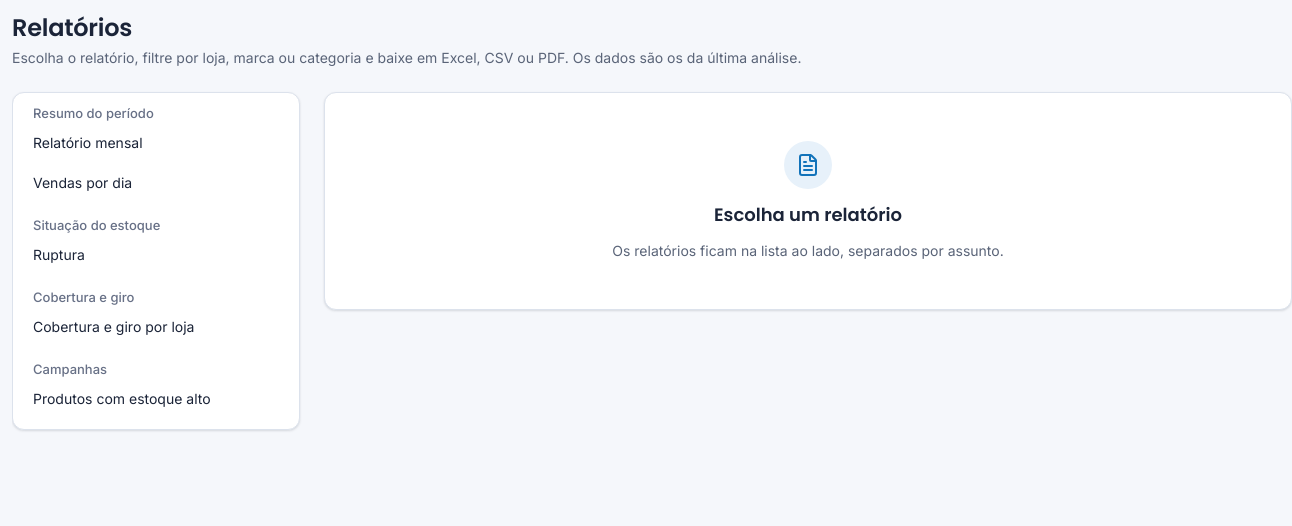
Test case: Relatórios › estoque alto pede o mínimo de unidades e só o envia nesse relatório
Click the button "Produtos com estoque alto" at (156, 399), box [25,381,287,417]
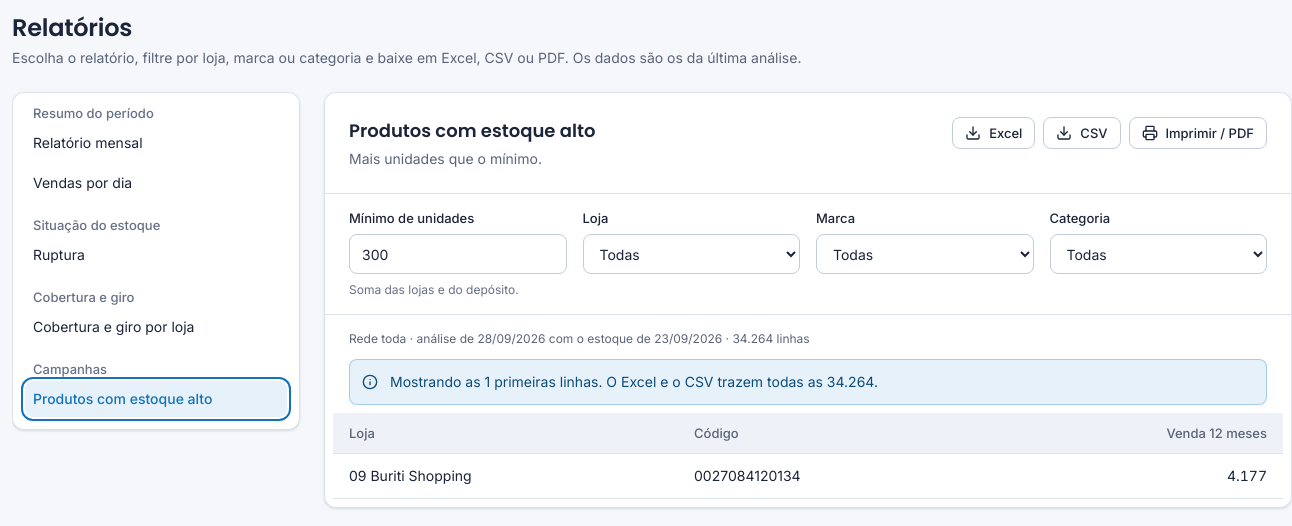
Expected: the number field labelled "Mínimo de unidades" holds "300"
Replace the text in the number field labelled "Mínimo de unidades" with "500" at (458, 254), box [349,234,566,274]
Then press Enter
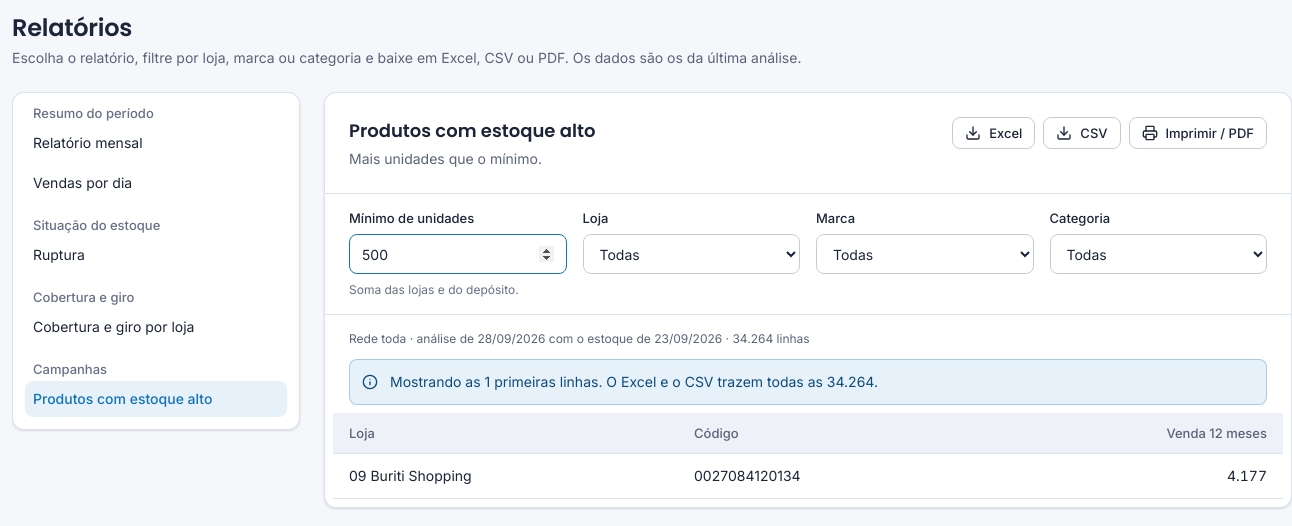
Click the button "Ruptura" at (59, 254), box [25,237,287,273]
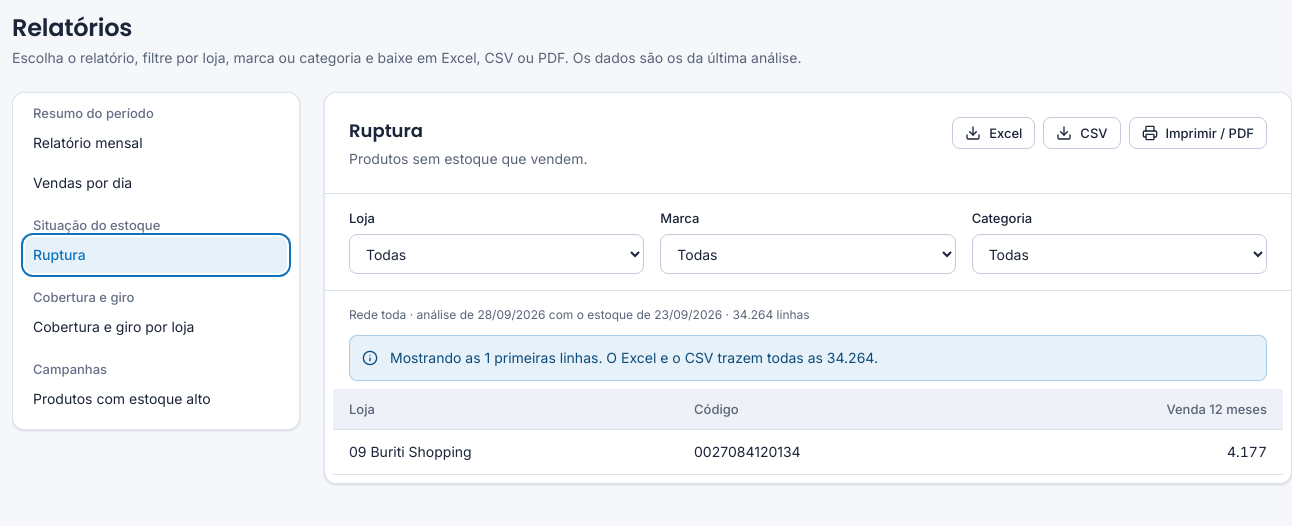
Expected: the label labelled "Mínimo de unidades" is gone
